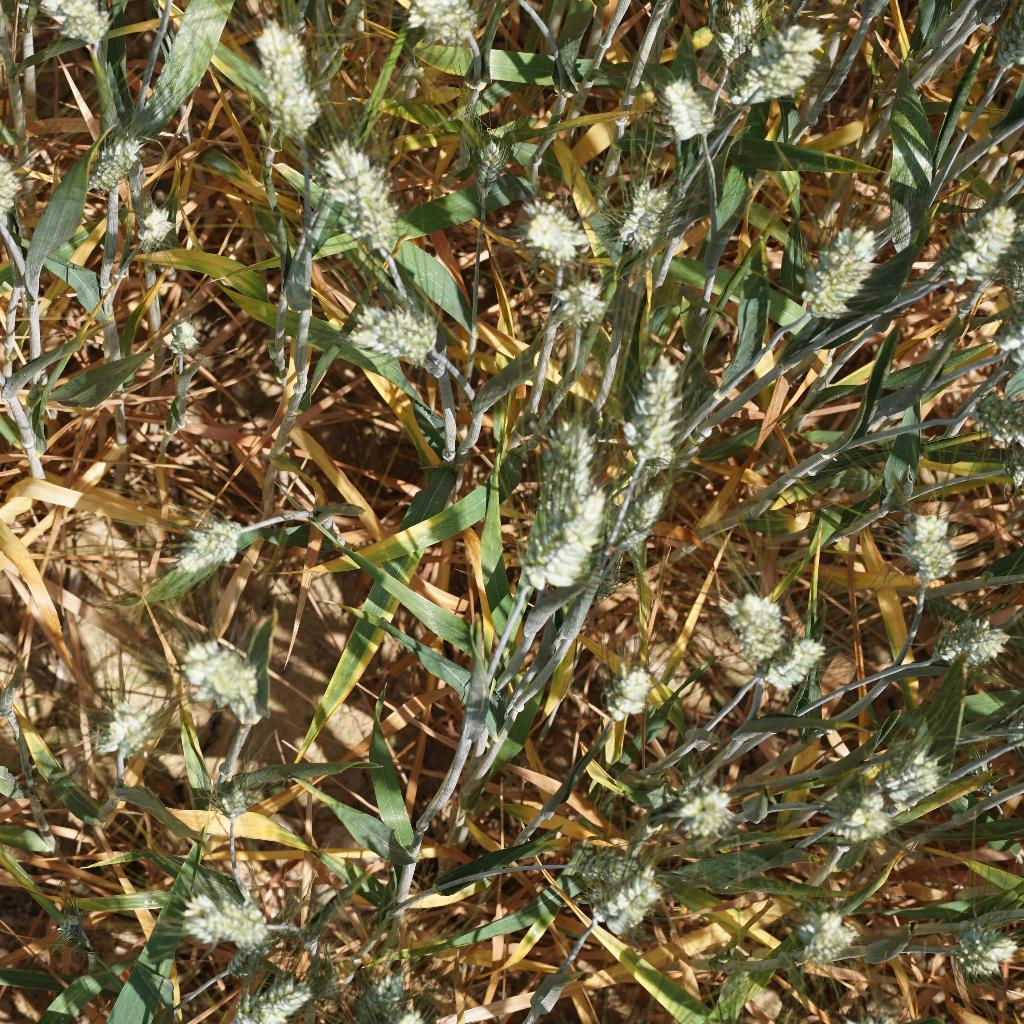0-0: (313, 144, 410, 265), (712, 21, 828, 120), (174, 634, 271, 746), (249, 3, 321, 146), (624, 350, 703, 478), (524, 484, 605, 590), (511, 411, 598, 509), (796, 216, 871, 328), (343, 295, 449, 372), (174, 882, 284, 955), (942, 200, 1021, 295), (584, 864, 668, 938), (646, 60, 721, 141), (893, 498, 960, 587), (85, 687, 160, 766), (885, 737, 961, 814), (535, 275, 620, 343), (608, 182, 684, 258), (512, 190, 587, 266), (946, 909, 1021, 985), (934, 610, 1013, 680), (21, 0, 109, 62), (165, 514, 247, 580), (790, 904, 866, 974), (671, 780, 751, 844), (716, 579, 780, 658), (383, 0, 464, 59), (88, 123, 152, 194), (236, 968, 318, 1023), (613, 481, 672, 555), (339, 966, 414, 1024), (354, 971, 436, 1024), (826, 772, 892, 837), (571, 846, 651, 898), (464, 125, 520, 199), (755, 626, 814, 694), (960, 384, 1024, 445), (706, 0, 774, 55), (604, 661, 662, 725), (203, 769, 268, 822), (127, 200, 179, 247), (50, 897, 89, 952), (959, 741, 996, 797), (160, 314, 204, 359), (596, 552, 627, 608)
